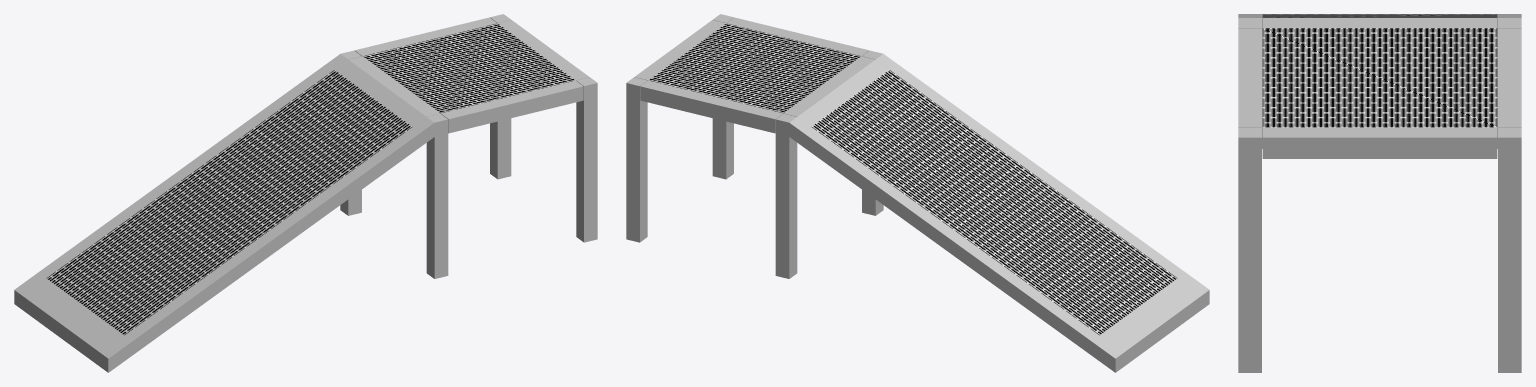
The model's file is ObsStandRampR01.FBX.
3 renders of one model, left to right at view 1: azimuth 30°, elevation 25°; view 2: azimuth 150°, elevation 25°; view 3: azimuth 270°, elevation 25°, orthographic. The views are drawn at different scales.
Parts seen in each view (by area): view 1: StandRamp05, StandRamp08, StandRamp06, StandRamp07, StandRamp01, StandRamp02, StandRamp04, StandRamp03; view 2: StandRamp05, StandRamp08, StandRamp06, StandRamp07, StandRamp03, StandRamp04, StandRamp02, StandRamp01; view 3: StandRamp06, StandRamp07, StandRamp02, StandRamp04, StandRamp05, StandRamp08, StandRamp03, StandRamp01.
Part boxes in pixels (x1=…): StandRamp05: x1=46, y1=70, x2=411, y2=335; StandRamp08: x1=14, y1=54, x2=434, y2=372; StandRamp06: x1=363, y1=23, x2=575, y2=113; StandRamp07: x1=349, y1=17, x2=589, y2=133; StandRamp01: x1=426, y1=113, x2=448, y2=278; StandRamp02: x1=576, y1=77, x2=597, y2=242; StandRamp04: x1=490, y1=14, x2=511, y2=179; StandRamp03: x1=340, y1=50, x2=361, y2=215; StandRamp05: x1=812, y1=70, x2=1177, y2=335; StandRamp08: x1=789, y1=54, x2=1209, y2=372; StandRamp06: x1=648, y1=23, x2=860, y2=113; StandRamp07: x1=634, y1=17, x2=874, y2=133; StandRamp03: x1=775, y1=113, x2=797, y2=278; StandRamp04: x1=626, y1=77, x2=647, y2=242; StandRamp02: x1=712, y1=14, x2=733, y2=179; StandRamp01: x1=862, y1=50, x2=883, y2=215; StandRamp06: x1=1262, y1=28, x2=1497, y2=127; StandRamp07: x1=1238, y1=18, x2=1521, y2=158; StandRamp02: x1=1238, y1=127, x2=1261, y2=372; StandRamp04: x1=1498, y1=127, x2=1521, y2=372; StandRamp05: x1=1262, y1=14, x2=1497, y2=17; StandRamp08: x1=1238, y1=14, x2=1521, y2=28; StandRamp03: x1=1498, y1=18, x2=1521, y2=28; StandRamp01: x1=1238, y1=18, x2=1261, y2=28.
Bounding box in the file's own units: 9 × 3 × 3.
